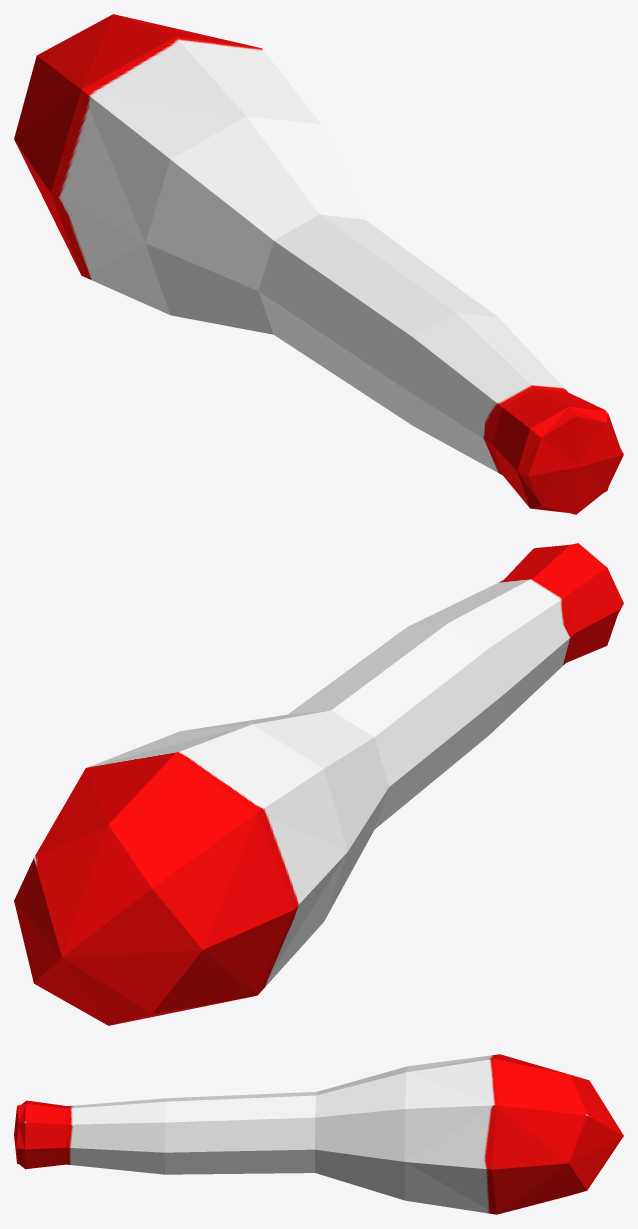
Rendered from tiro.obj.
The picture shows the model from 3 angles, top to bottom: view 1: azimuth 30°, elevation 25°; view 2: azimuth 150°, elevation 25°; view 3: azimuth 270°, elevation 25°; orthographic projection. The views are drawn at different scales.
Bounding box in the file's own units: 0.4382 × 0.4384 × 1.61.
1 material, 1 textured.
